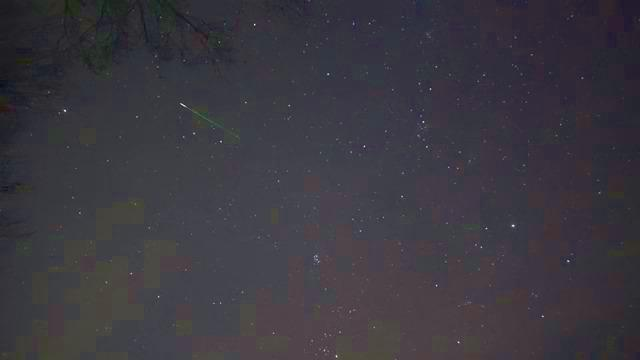meteorite: (163, 97, 250, 138)
